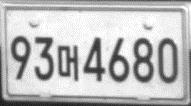0: (157, 38, 178, 83)
3: (32, 36, 54, 80)
4: (83, 36, 105, 83)
6: (107, 37, 129, 82)
8: (132, 37, 154, 83)
9: (9, 34, 31, 81)
머: (57, 44, 80, 82)
